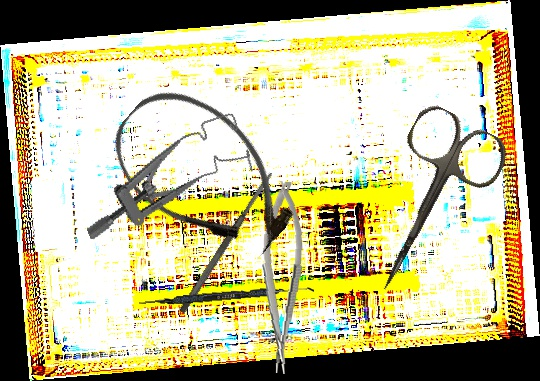Cannula: (92, 67, 316, 283)
Iris Scissors: (338, 99, 515, 312)
Needle Holder: (253, 180, 309, 375)
Spatula Surgical: (177, 170, 276, 315), (138, 281, 315, 311)
Speculum: (65, 110, 261, 243)
